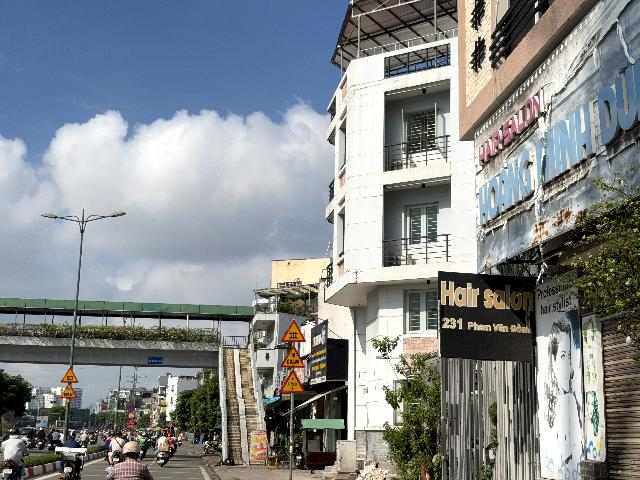chieu-cao-tinh-khong-thuc-te: (280, 369, 306, 393)
di-cham: (280, 345, 306, 368), (59, 383, 77, 398)
noi-giao-nhau-voi-duong-sat-co-rao-chan: (281, 320, 307, 342), (61, 366, 78, 383)
